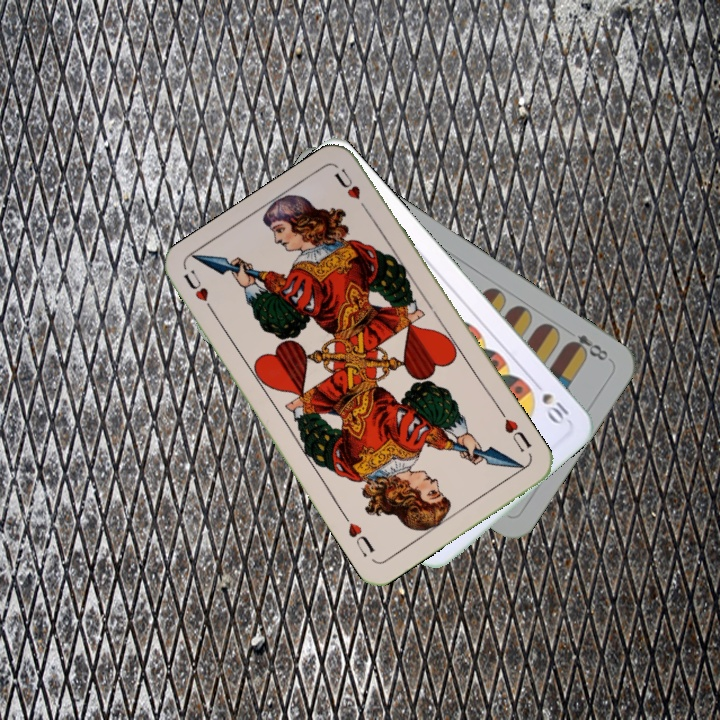E8: (563, 330, 611, 364)
HU: (179, 266, 219, 319), (496, 406, 534, 455)
S10: (538, 388, 572, 428)
